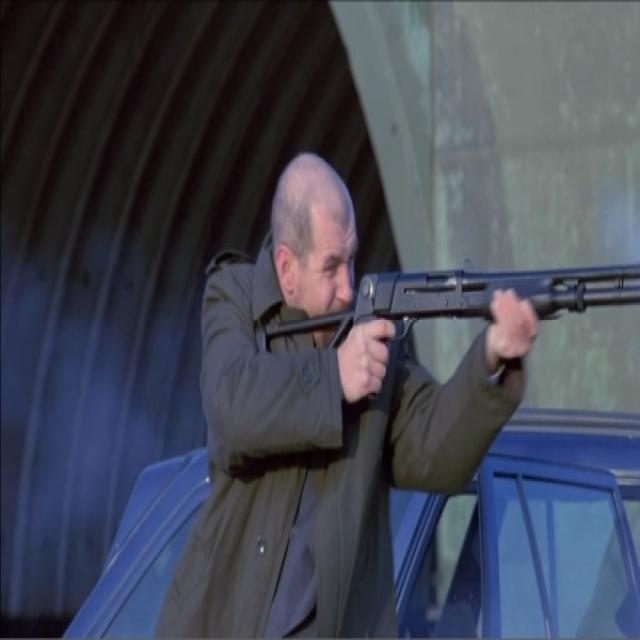rifle: (263, 246, 640, 412)
